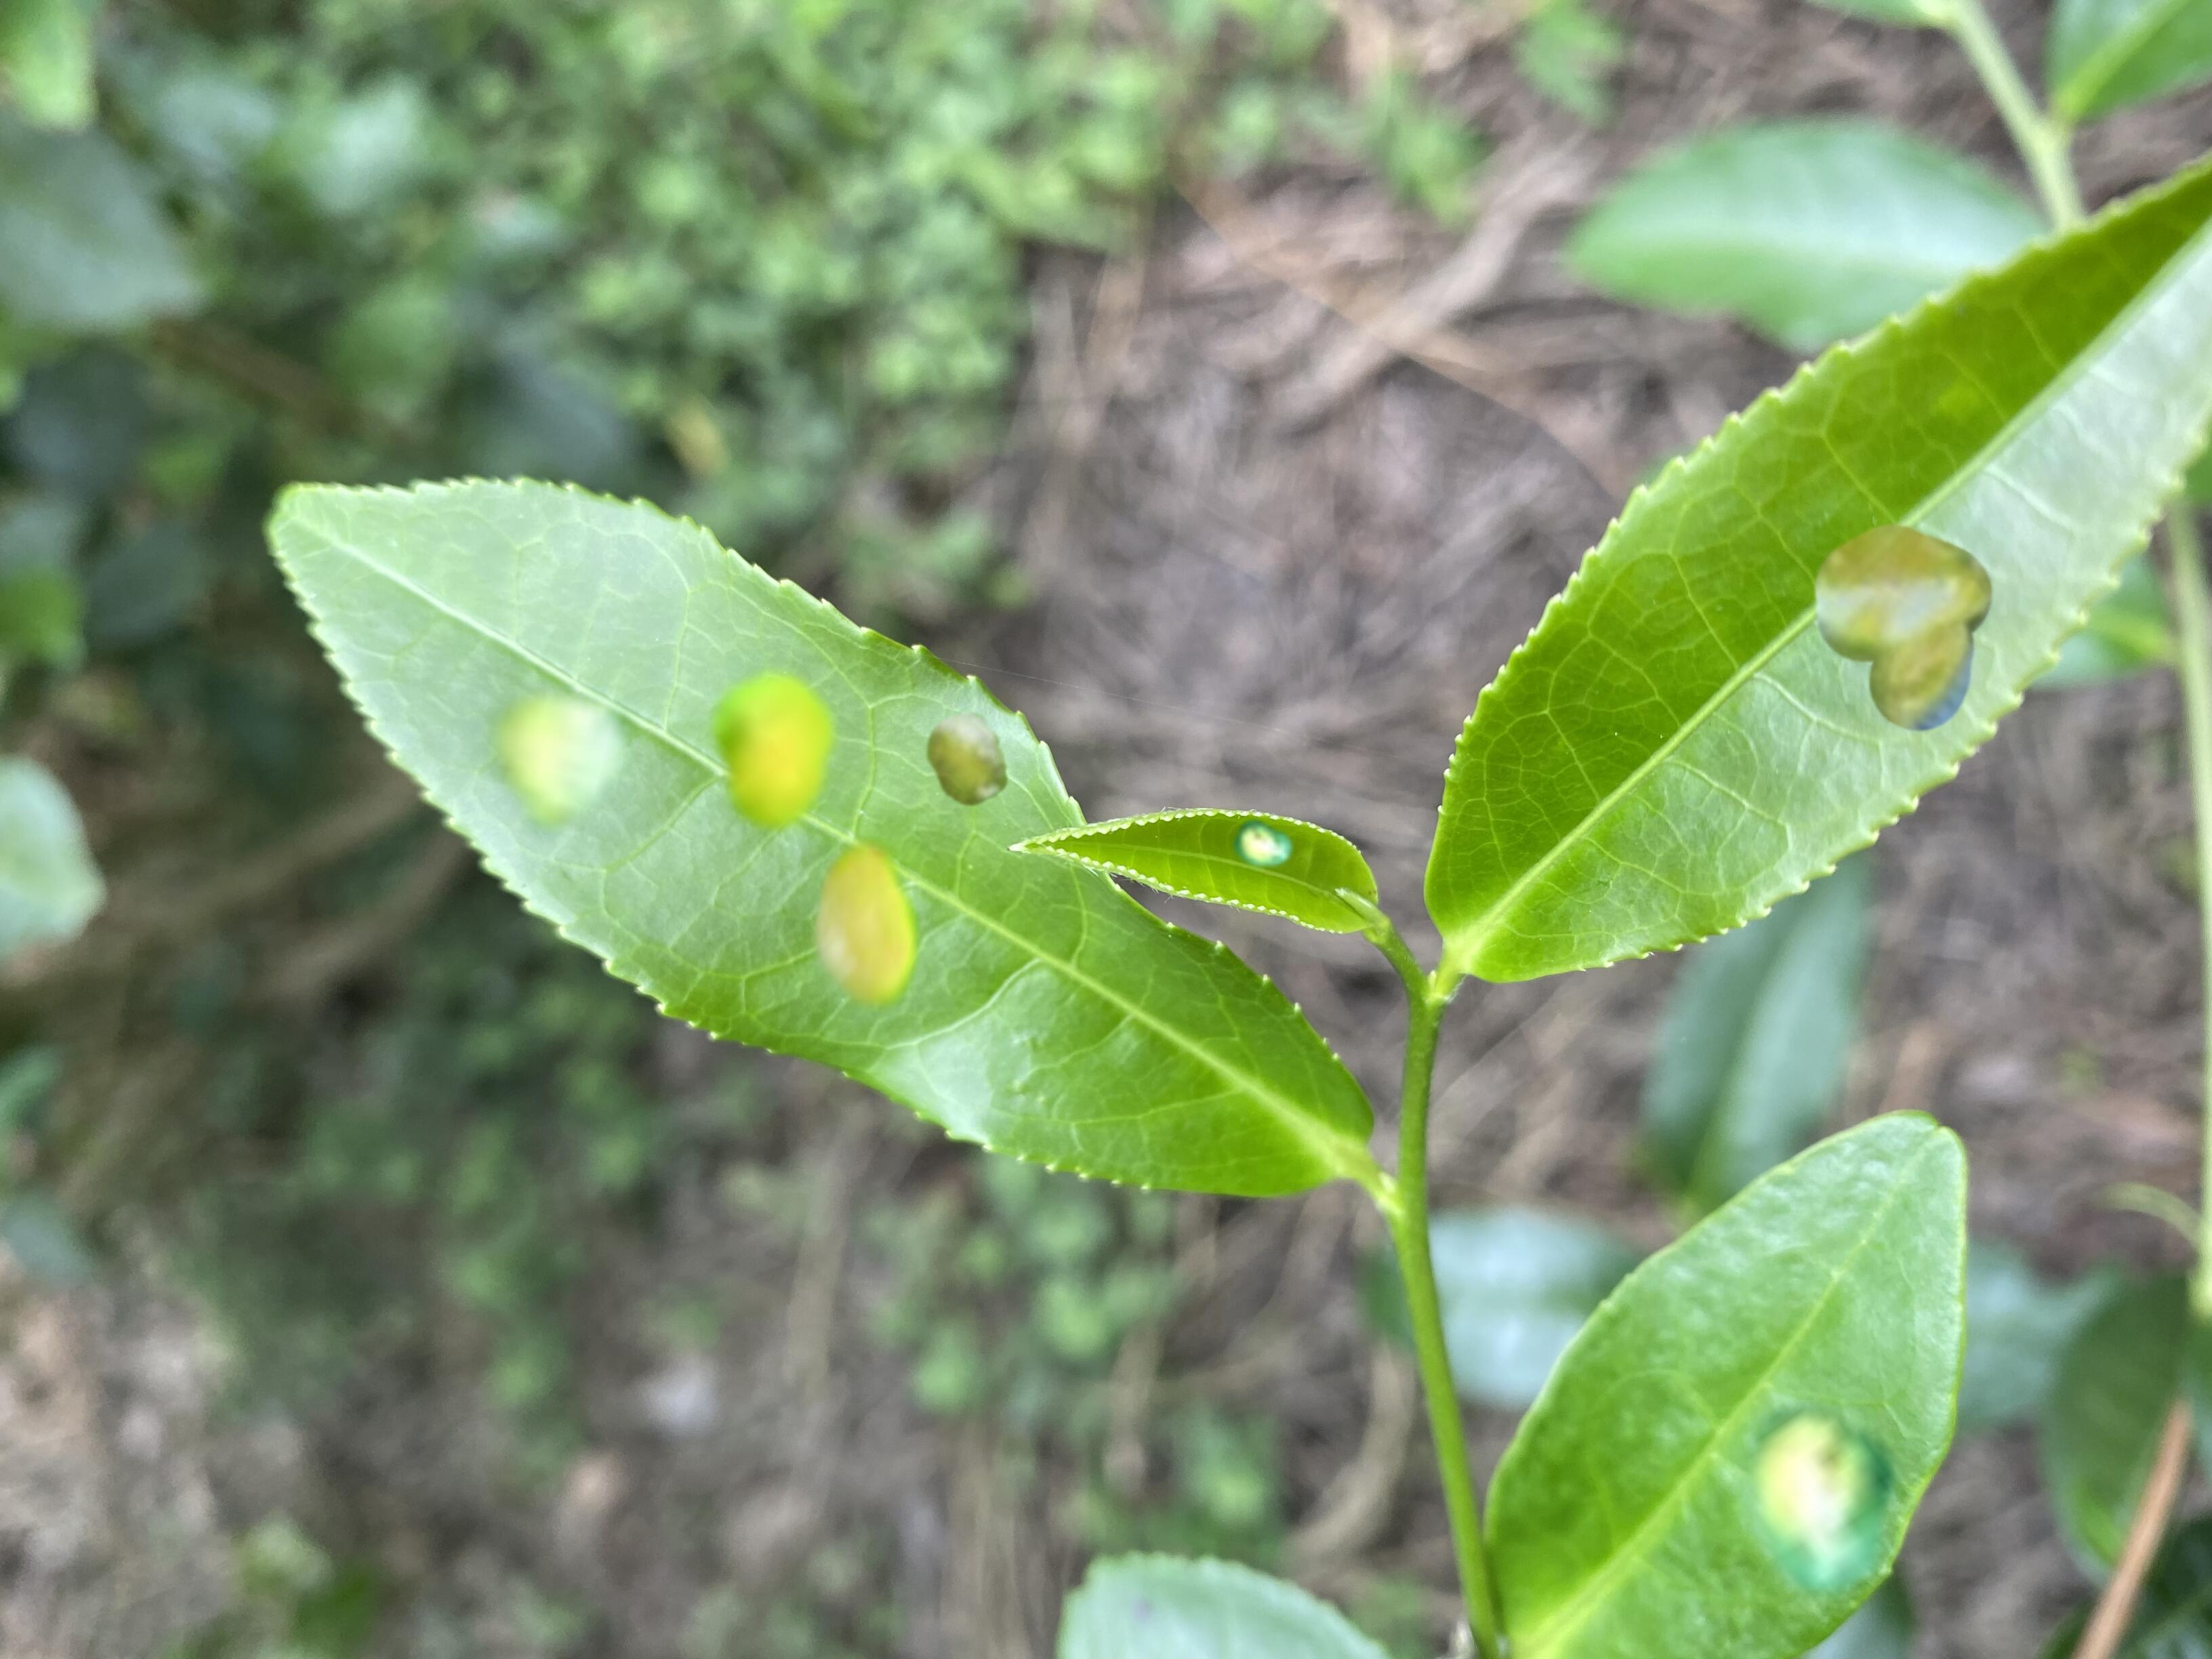chabing_high: (260, 476, 1379, 1201)
chabing_low: (1423, 164, 2209, 988), (1480, 1110, 1970, 1659), (1012, 805, 1379, 934)
